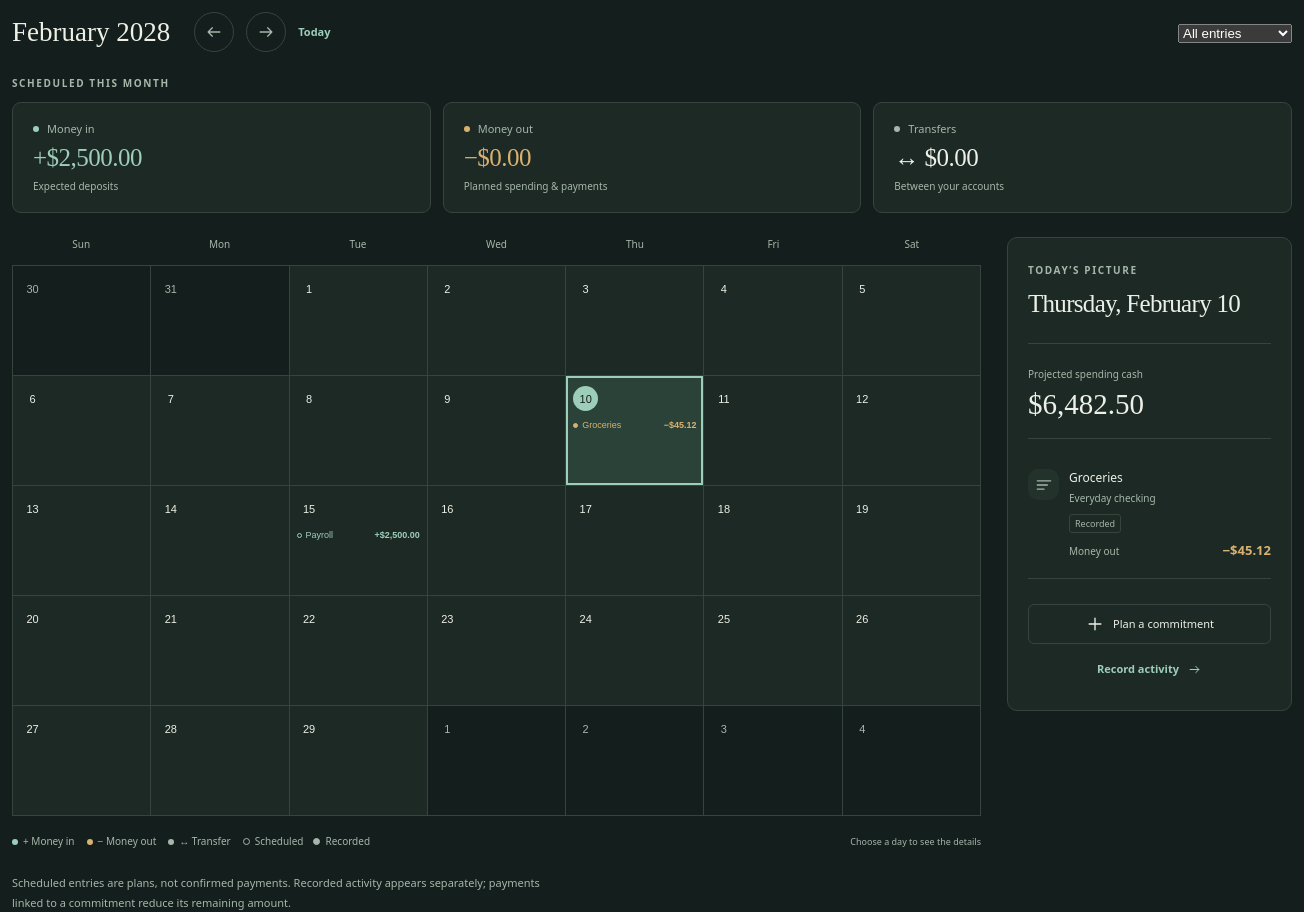
calendar navigation and day details › filters actual and scheduled entries and explains empty days
Select "Scheduled only" in the dropdown at (1235, 34), box top-left (1178, 24), bottom-right (1292, 43)
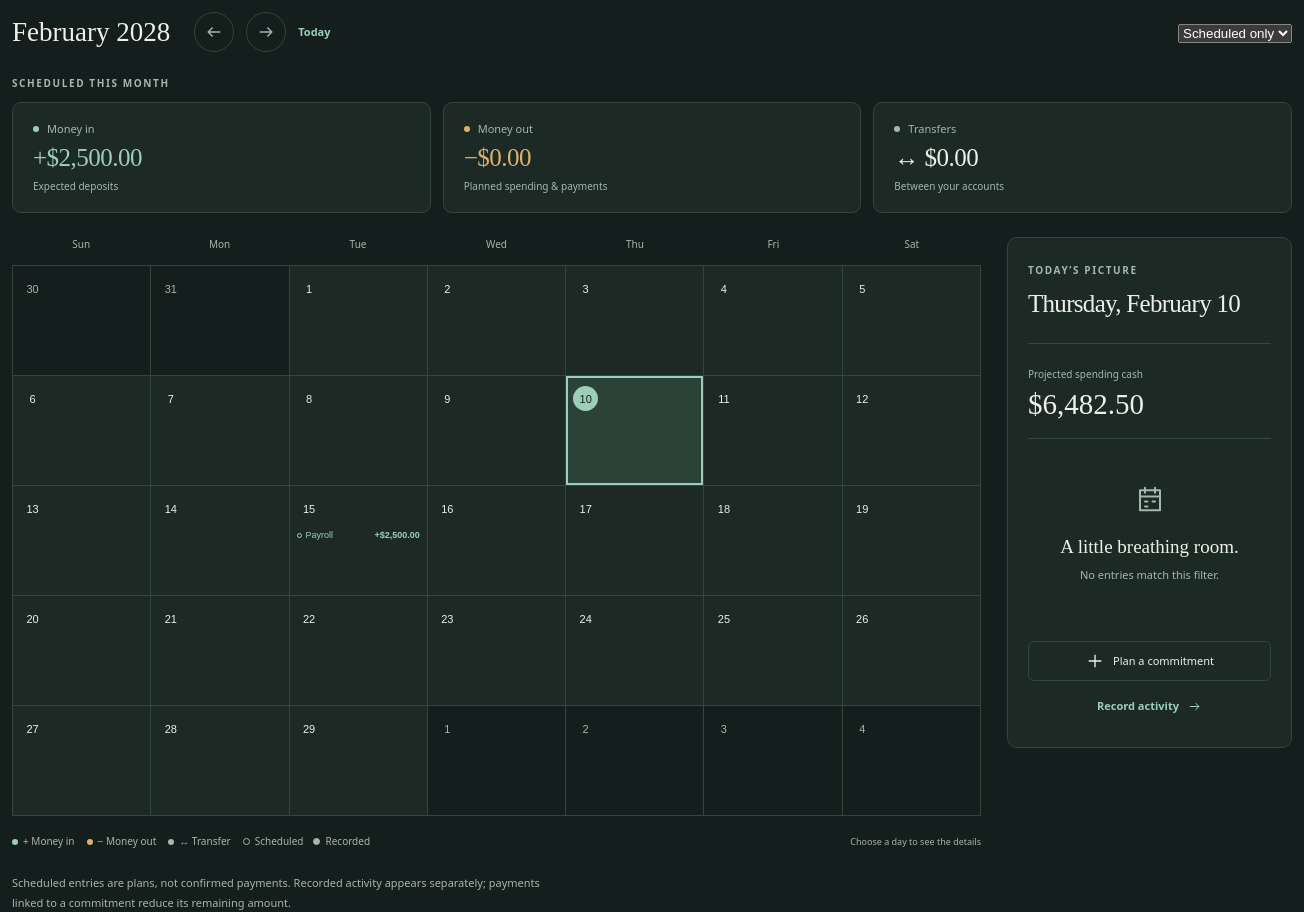
Expected: the element with class "calendar-agenda" shows "No entries match this filter.", top-left (1080, 566), bottom-right (1219, 582)
Expected: no elements with class "agenda-entry" are shown
Click the button "15 Payroll +$2,500.00" at (359, 541), box top-left (290, 486), bottom-right (428, 596)
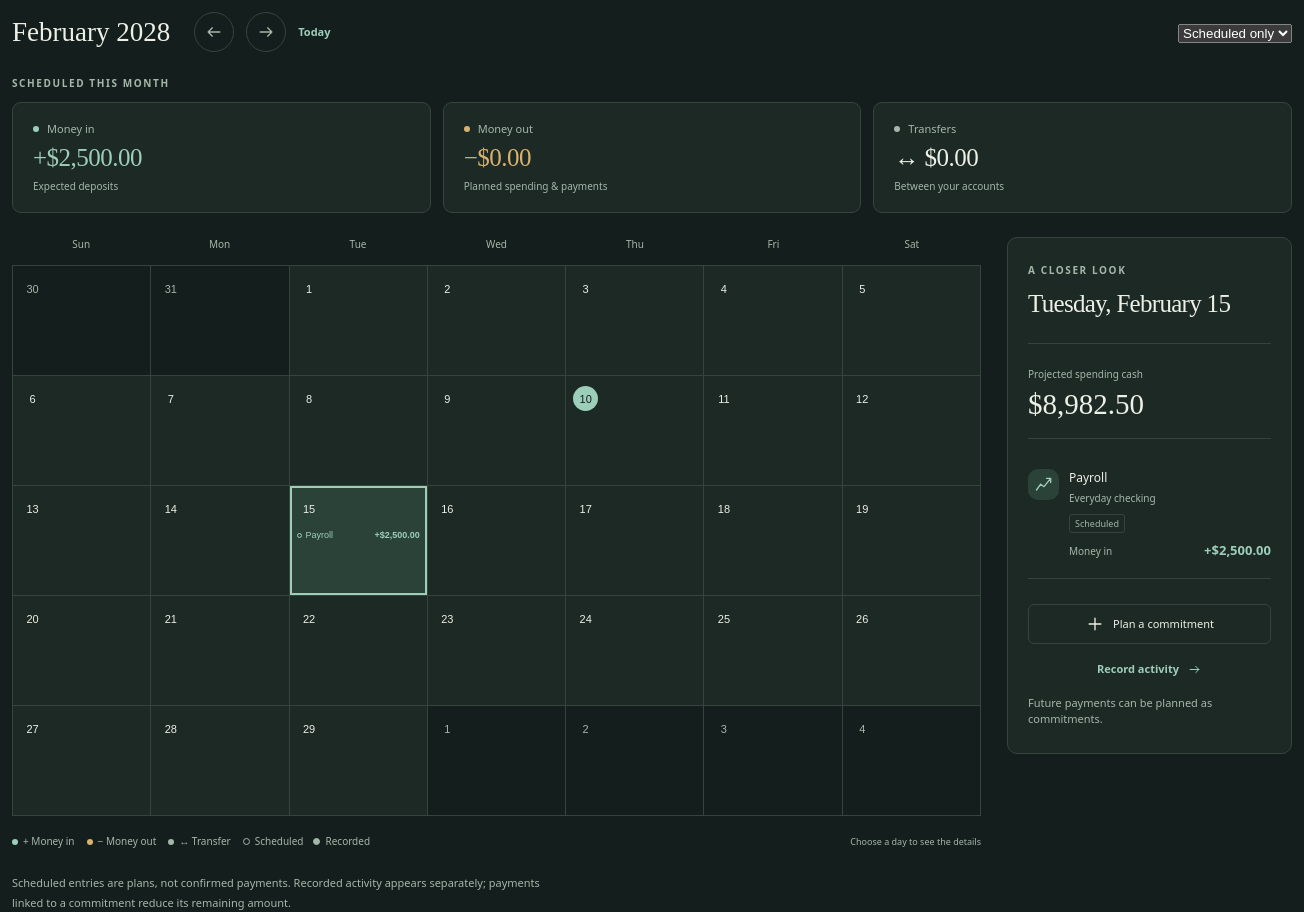
Expected: the number of elements with class "agenda-entry" is 1, top-left (1028, 451), bottom-right (1271, 579)
Select "Recorded only" in the dropdown at (1235, 34), box top-left (1178, 24), bottom-right (1292, 43)
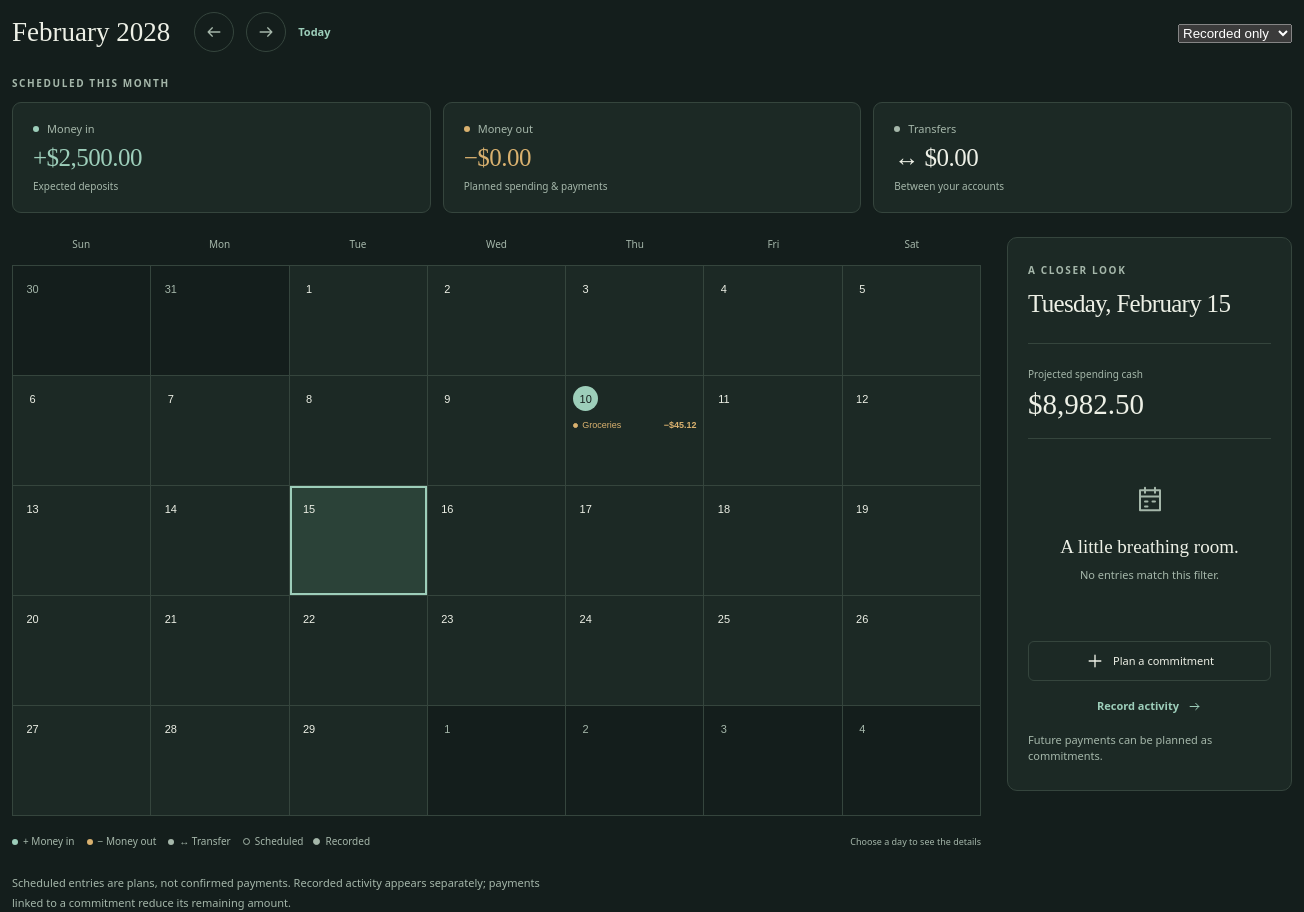
Expected: no elements with class "agenda-entry" are shown
